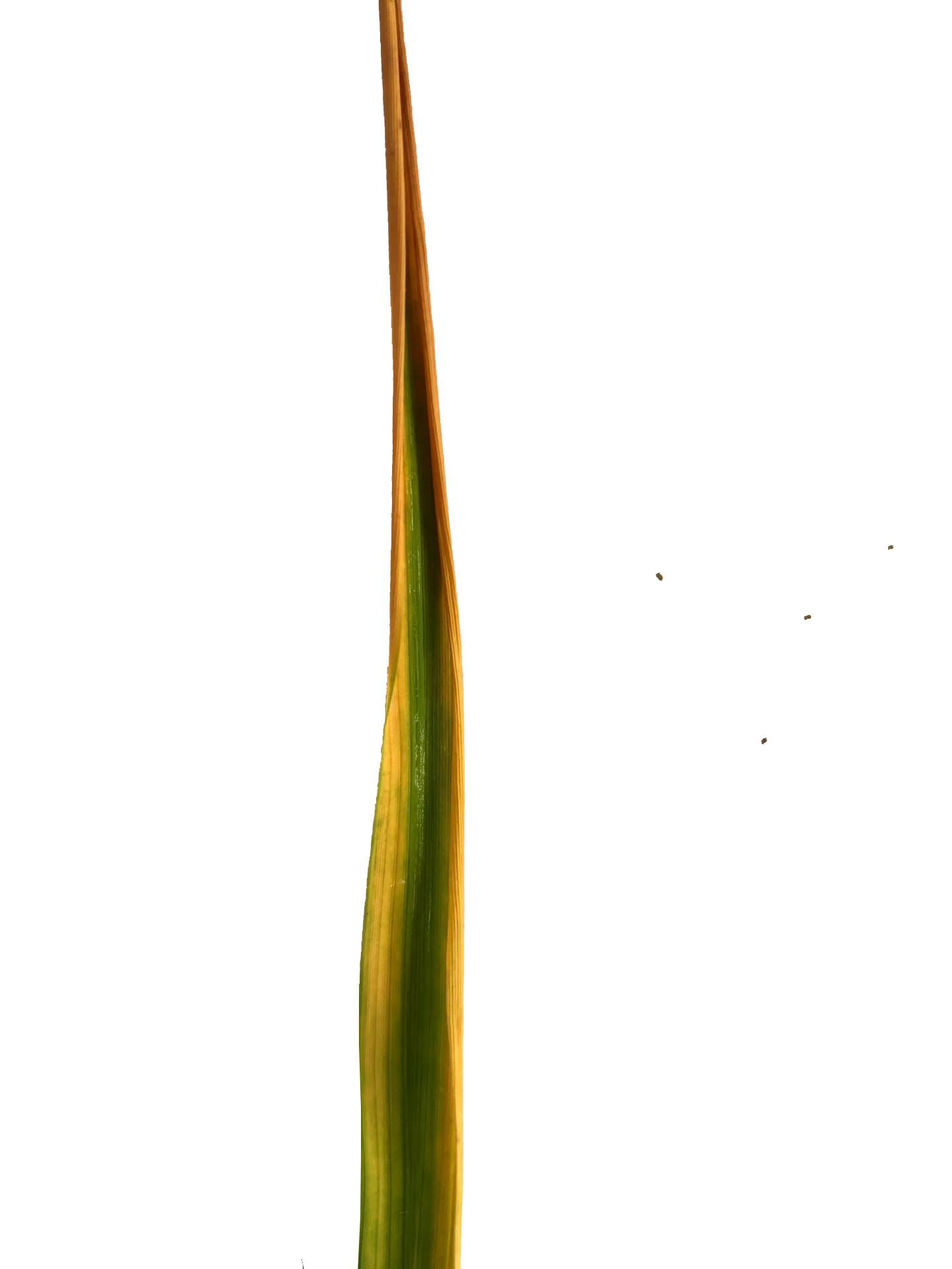Brown spot: (430, 641, 463, 1256), (354, 730, 397, 1054)
Tungro: (380, 63, 423, 674)
